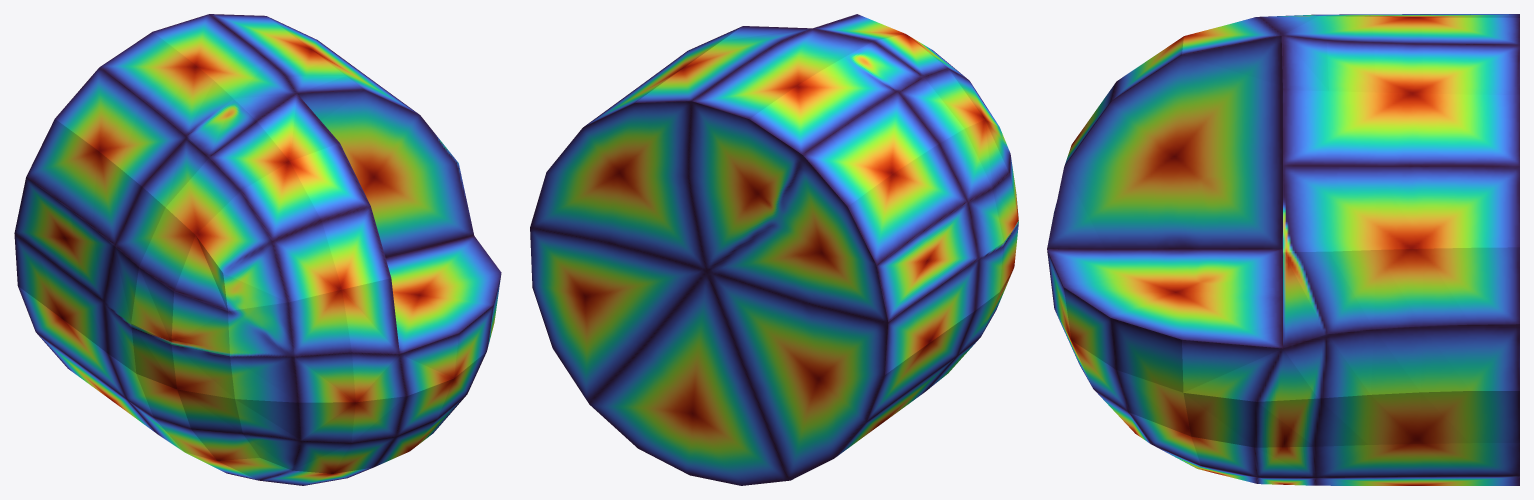
The model's file is gen3.glb.
3 views of the same model, side by side, from view 1: azimuth 30°, elevation 25°; view 2: azimuth 150°, elevation 25°; view 3: azimuth 270°, elevation 25° (orthographic). The views are drawn at different scales.
Visible parts, largest first — view 1: Node; view 2: Node; view 3: Node.
Part boxes in pixels (<box>): Node: <box>14,14,501,485</box>; Node: <box>530,14,1018,485</box>; Node: <box>1047,14,1519,485</box>.
Size of the model in its own units: 9.98 by 9.96 by 9.98.
1 material, 1 textured.
